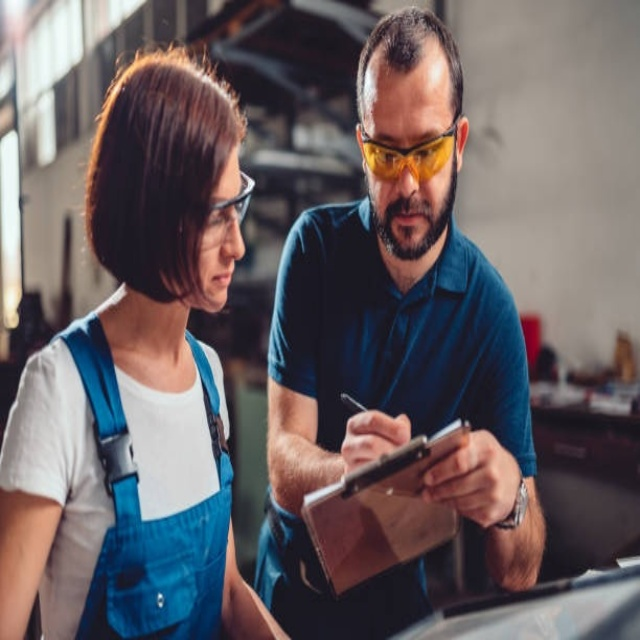Gafas: (359, 121, 460, 183), (203, 169, 255, 235)
Sin_guantes: (420, 427, 525, 532), (339, 405, 411, 475)
Sin_mascara: (384, 196, 432, 249), (200, 257, 238, 307)
